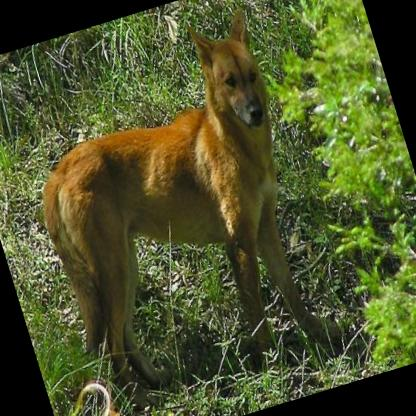dingo: (0, 3, 345, 416)
